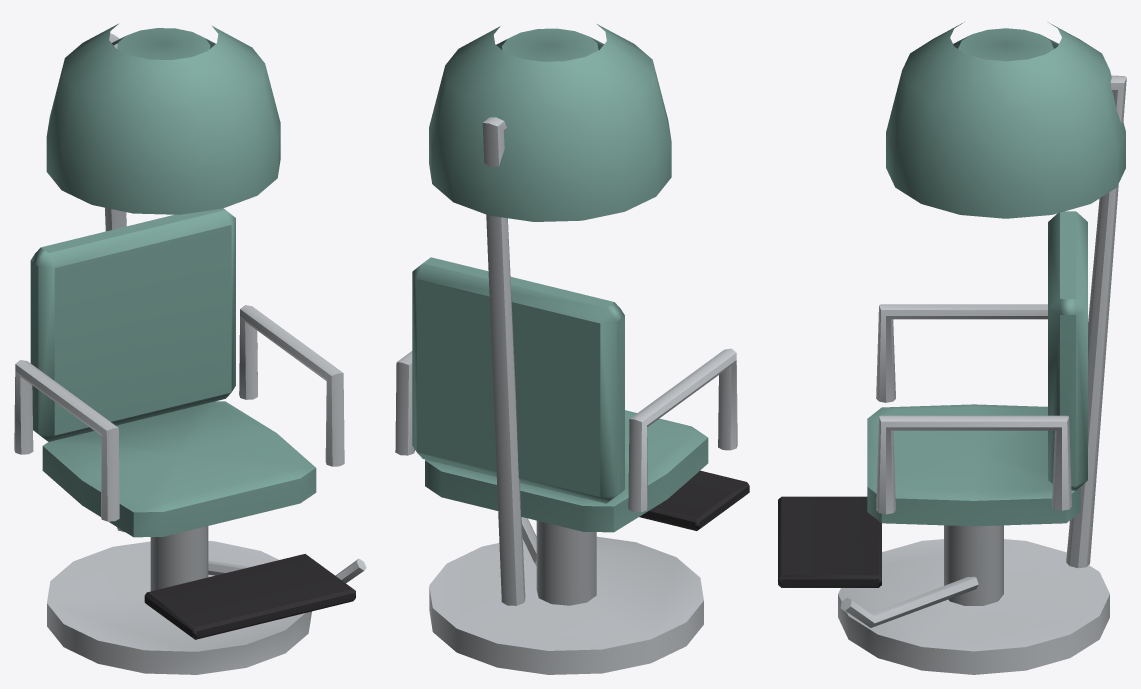
File: dryer_hood.glb
3 views of the same model, side by side, from view 1: azimuth 30°, elevation 25°; view 2: azimuth 150°, elevation 25°; view 3: azimuth 270°, elevation 25° (orthographic). The views are drawn at different scales.
Parts seen in each view (by area): view 1: dryer_hood; view 2: dryer_hood; view 3: dryer_hood.
Part boxes in pixels (box(x1,y1,x2,y2)): dryer_hood: box(14, 23, 366, 674); dryer_hood: box(395, 24, 749, 674); dryer_hood: box(778, 22, 1126, 674).
Size of the model in its own units: 0.7187 by 1.61 by 0.872.
